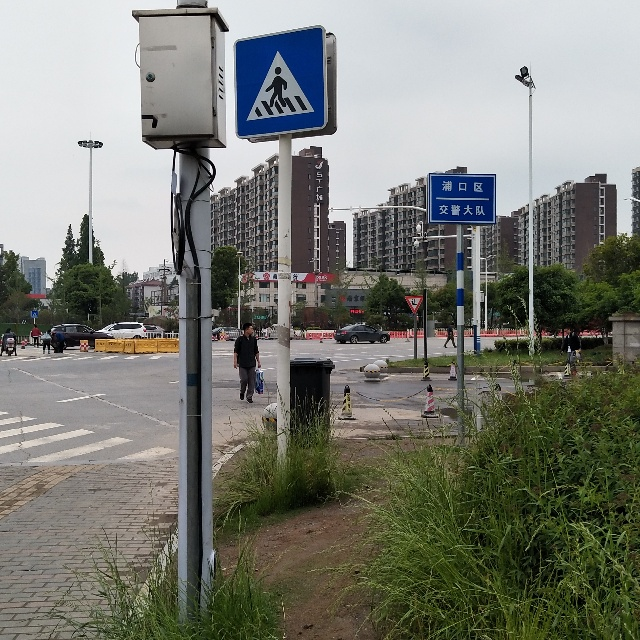crosswalk: (234, 38, 325, 129)
